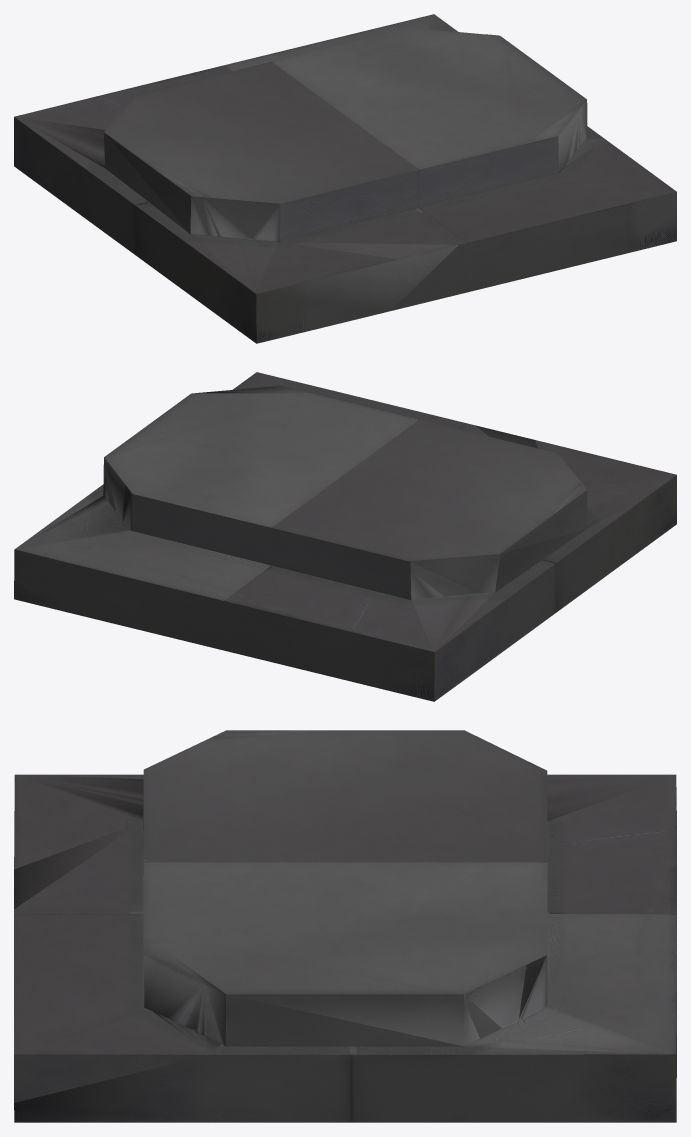
The model's file is ENV_StairLanding.fbx.
3 renders of one model, top to bottom at view 1: azimuth 30°, elevation 25°; view 2: azimuth 150°, elevation 25°; view 3: azimuth 270°, elevation 25°, orthographic. The views are drawn at different scales.
Visible parts, largest first — view 1: Mesh_0; view 2: Mesh_0; view 3: Mesh_0.
Part boxes in pixels (<box>): Mesh_0: <box>14,14,676,343</box>; Mesh_0: <box>14,372,676,701</box>; Mesh_0: <box>14,730,676,1122</box>.
Size of the model in its own units: 190 by 38.02 by 190.
Materials: 1 (1 with a texture image).
